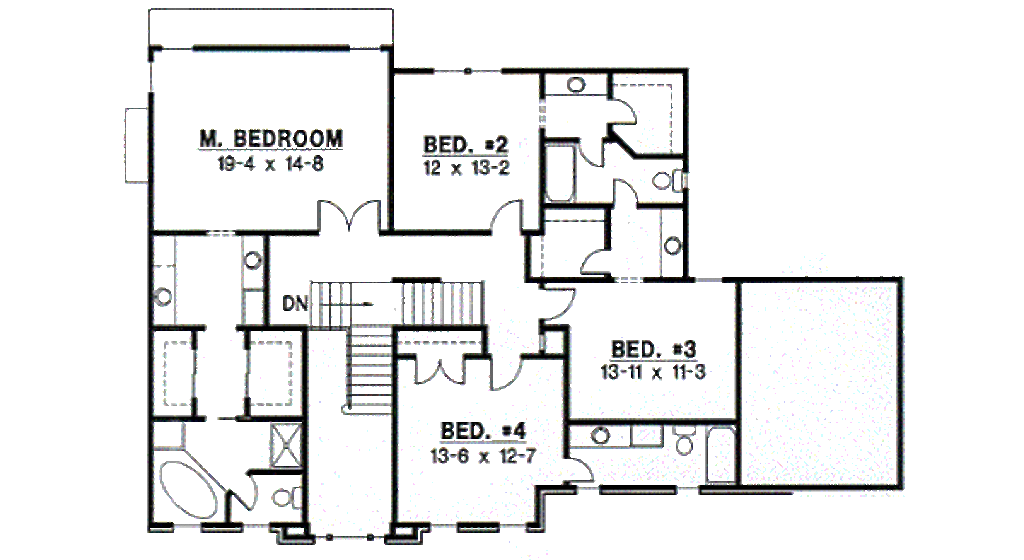door: (310, 197, 380, 237), (413, 351, 465, 386), (485, 198, 526, 237), (537, 285, 576, 320), (225, 474, 259, 512), (487, 356, 522, 392), (576, 135, 607, 169), (559, 454, 595, 482), (608, 96, 637, 129), (612, 177, 639, 207), (580, 248, 608, 276)
large_sink: (266, 479, 309, 511), (669, 419, 698, 457), (654, 161, 684, 197)
small_sink: (236, 231, 271, 294), (569, 420, 631, 452), (659, 207, 686, 280), (150, 264, 176, 324)
stairs: (310, 279, 489, 411)
tub: (146, 449, 225, 524), (703, 420, 740, 486), (541, 143, 578, 203)
